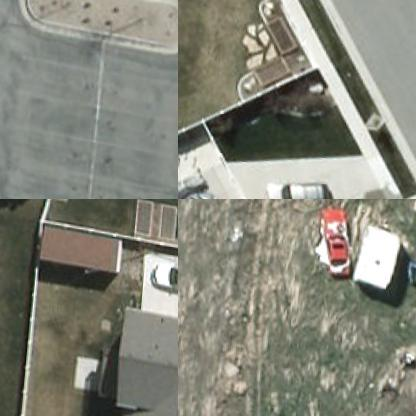camping car: (354, 220, 408, 290)
car: (316, 202, 361, 276), (263, 166, 335, 198), (147, 256, 177, 291)
